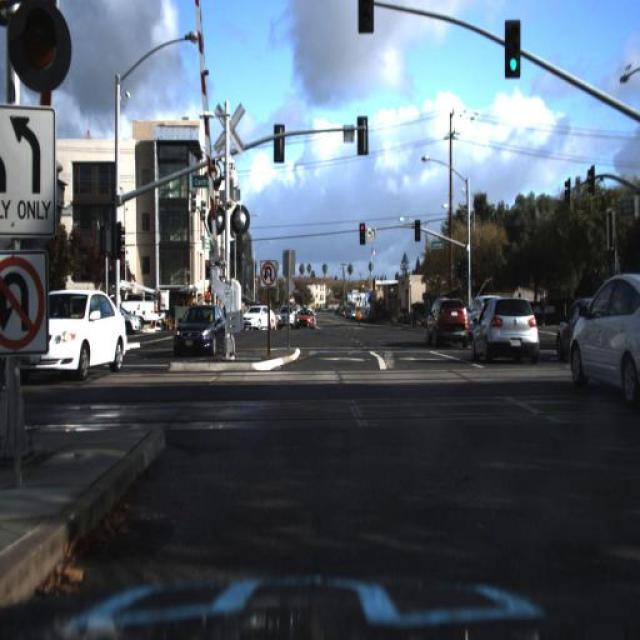car: (5, 287, 126, 388), (562, 274, 636, 408), (470, 290, 541, 369), (169, 294, 236, 358), (421, 293, 467, 352), (463, 293, 488, 352), (240, 296, 276, 332), (294, 305, 316, 330)
trafficLight-Green: (10, 5, 80, 104), (504, 18, 521, 77), (358, 214, 368, 248), (412, 214, 422, 241)
trafficLight-GreenLeft: (460, 250, 470, 280)
